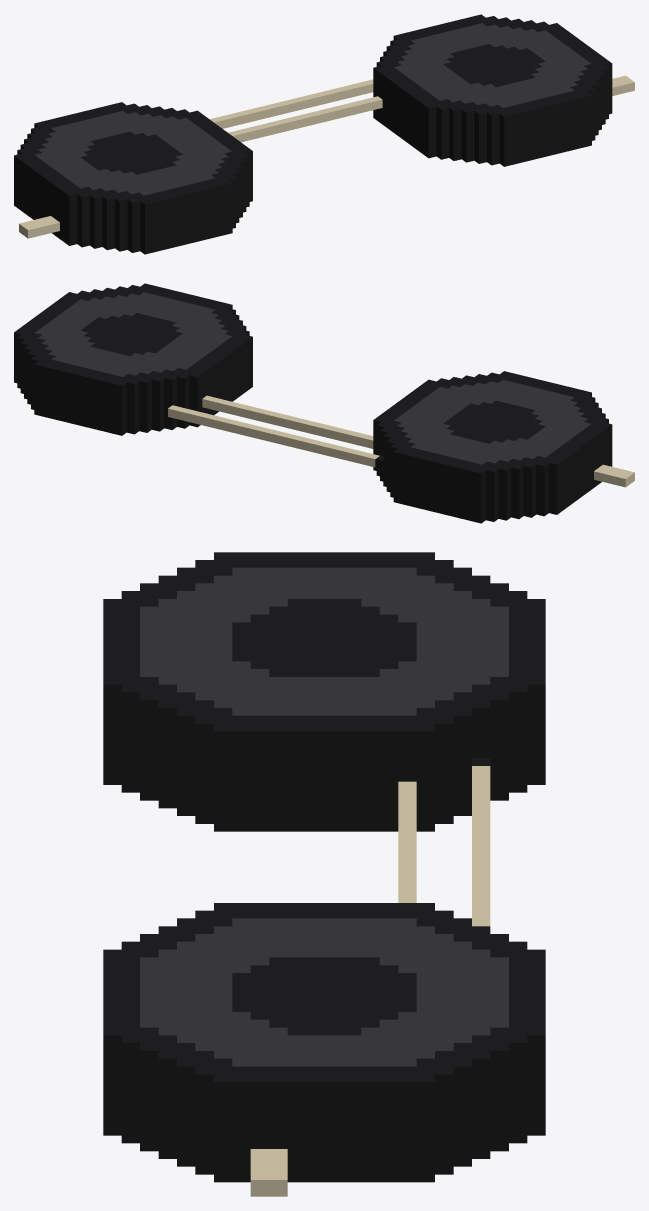
Rendered from ear_pads.glb.
The picture shows the model from 3 angles, top to bottom: view 1: azimuth 30°, elevation 25°; view 2: azimuth 150°, elevation 25°; view 3: azimuth 270°, elevation 25°; orthographic projection. The views are drawn at different scales.
Parts seen in each view (by area): view 1: ear_pads:compound; view 2: ear_pads:compound; view 3: ear_pads:compound.
Boxes of the visible parts, x1=… form: ear_pads:compound: x1=14, y1=14, x2=634, y2=254; ear_pads:compound: x1=14, y1=283, x2=634, y2=523; ear_pads:compound: x1=103, y1=552, x2=545, y2=1196.
Bounding box in the file's own units: 0.304 × 0.024 × 0.096.
